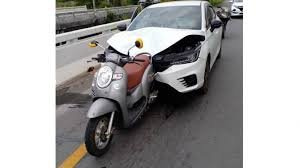motor: (82, 53, 159, 150)
